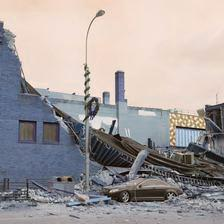Destroyed_Building: (0, 19, 224, 208)
